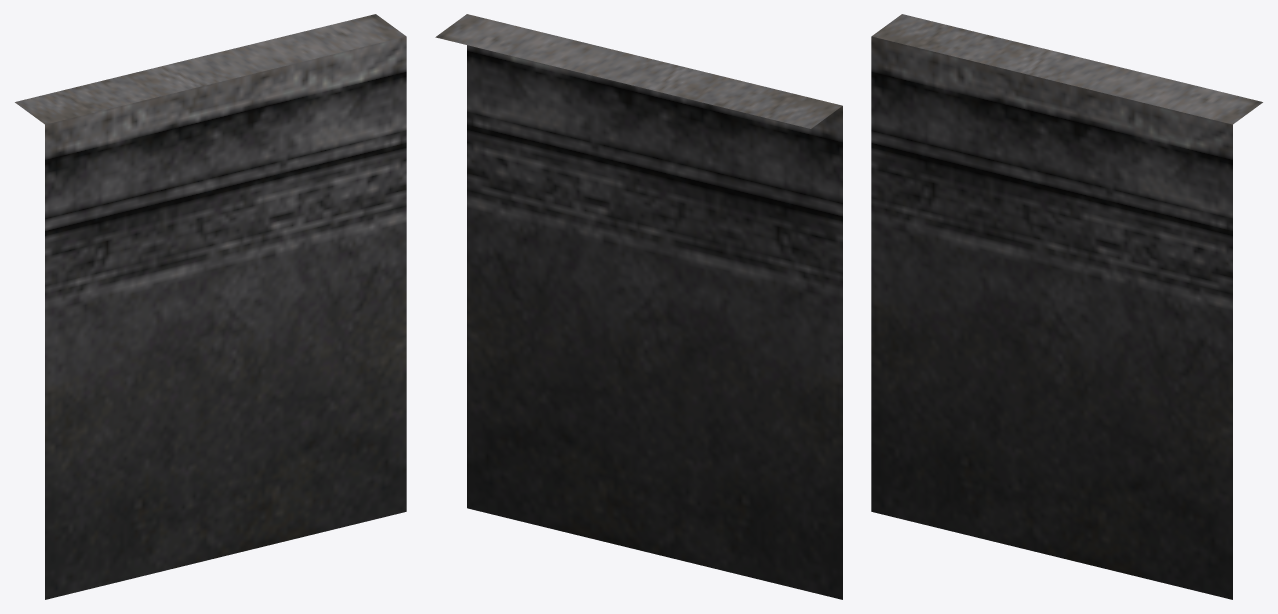
3 views of the same model, side by side, from view 1: azimuth 30°, elevation 25°; view 2: azimuth 150°, elevation 25°; view 3: azimuth 330°, elevation 25° (orthographic). The views are drawn at different scales.
Parts seen in each view (by area): view 1: wj12; view 2: wj12; view 3: wj12.
Part boxes in pixels (box(x1,y1,x2,y2)): wj12: box(15, 14, 406, 599); wj12: box(435, 14, 842, 599); wj12: box(871, 14, 1262, 599).
Bounding box in the file's own units: 743 × 934 × 109.
